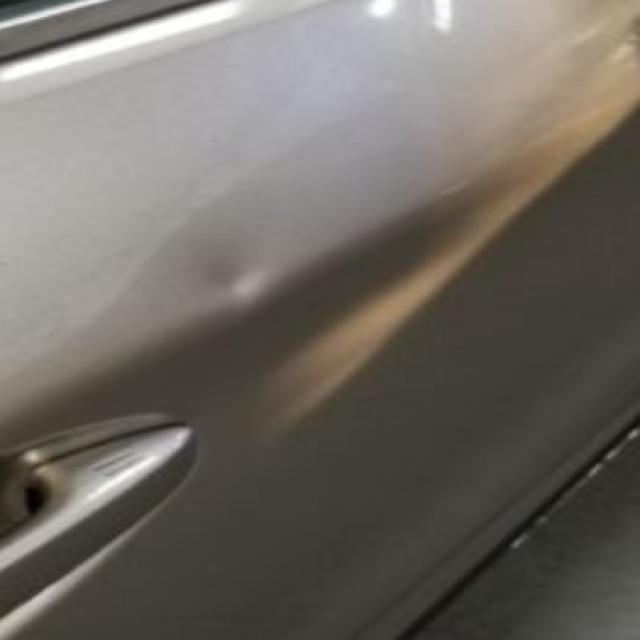dents: (169, 239, 304, 310)
